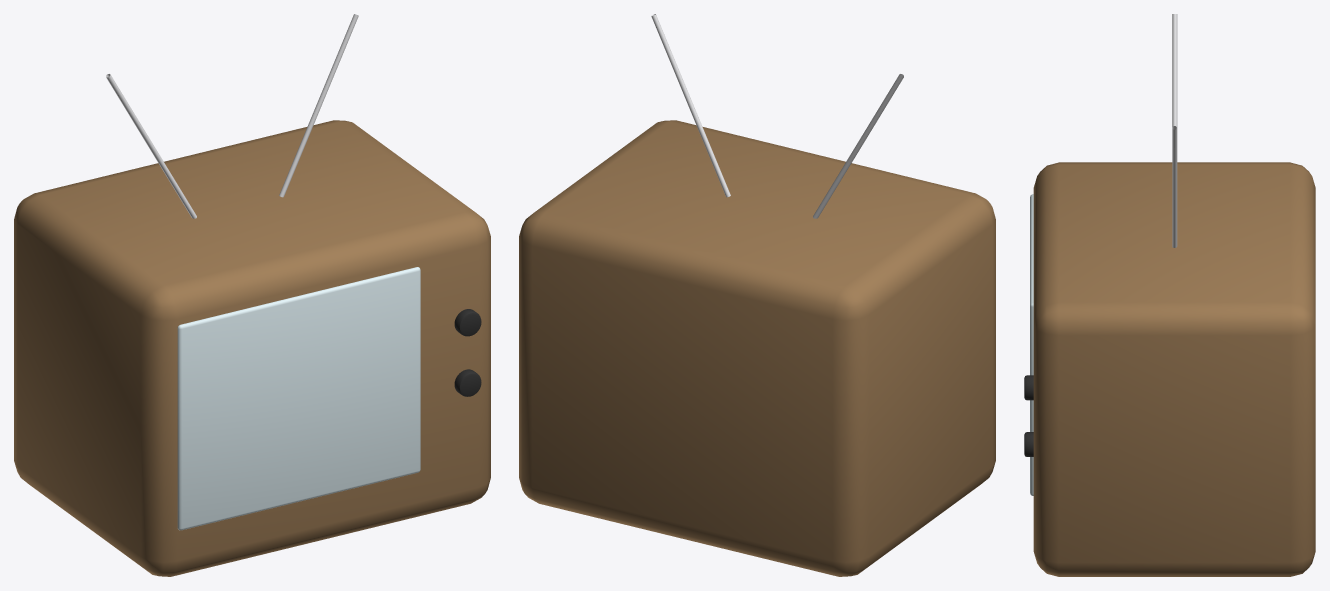
The picture shows the model from 3 angles, left to right: view 1: azimuth 30°, elevation 25°; view 2: azimuth 150°, elevation 25°; view 3: azimuth 270°, elevation 25°; orthographic projection. The views are drawn at different scales.
Parts seen in each view (by area): view 1: case, screen, ears2, ears; view 2: case, ears2, ears; view 3: case, screen, ears2, ears.
Boxes of the visible parts, bbox=[...] form: case: bbox=[14, 120, 490, 576]; screen: bbox=[177, 267, 420, 530]; ears2: bbox=[279, 14, 358, 197]; ears: bbox=[106, 74, 196, 218]; case: bbox=[519, 120, 995, 576]; ears2: bbox=[651, 14, 730, 197]; ears: bbox=[813, 74, 903, 218]; case: bbox=[1033, 162, 1315, 576]; screen: bbox=[1030, 194, 1033, 495]; ears2: bbox=[1172, 126, 1177, 247]; ears: bbox=[1172, 14, 1177, 127].
Size of the model in its own units: 0.6 by 0.7518 by 0.465.
